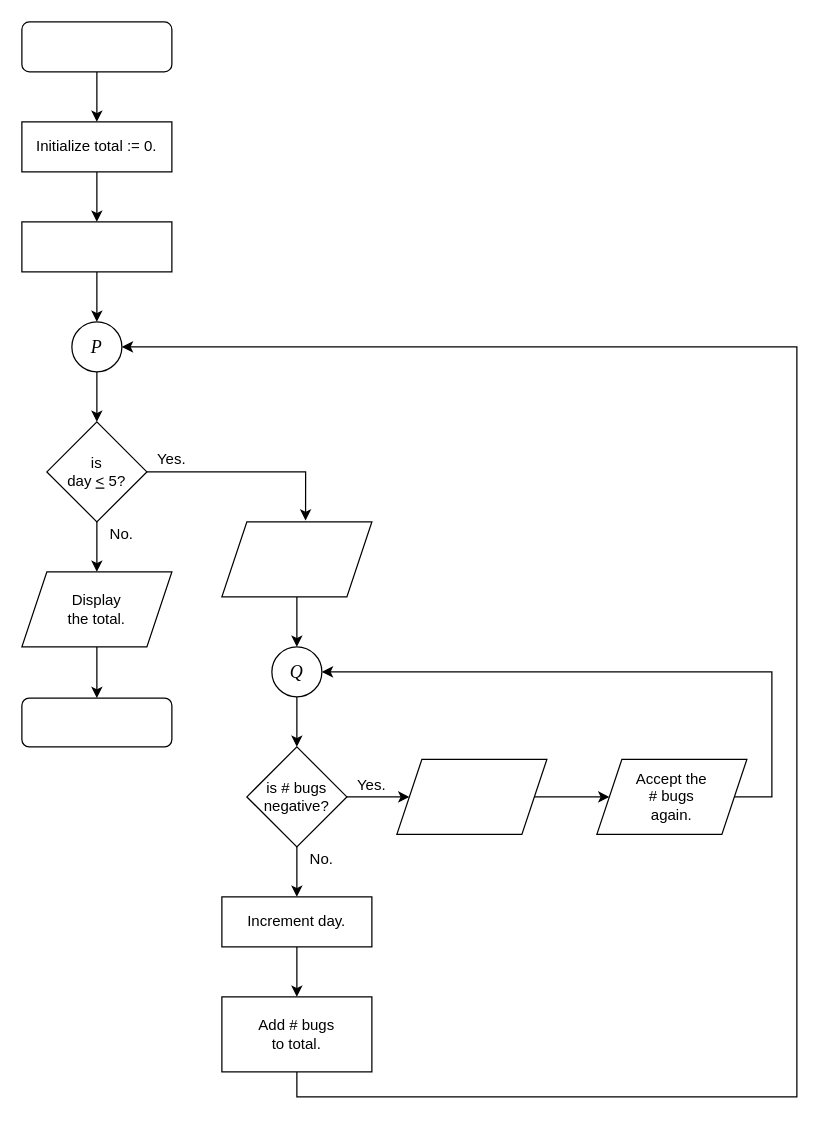
Some shapes in this 829 by 1129 pixel diagram are drawn without their labels. The box of each missing label's shape, as (x1, y1, x2, y2) in pixels:
Accept the # bugs for this day.: (221, 521, 372, 597)
day := 1.: (21, 221, 172, 272)
Display an error message.: (396, 758, 547, 834)
FINISH: (21, 697, 172, 747)
START: (21, 21, 172, 72)
